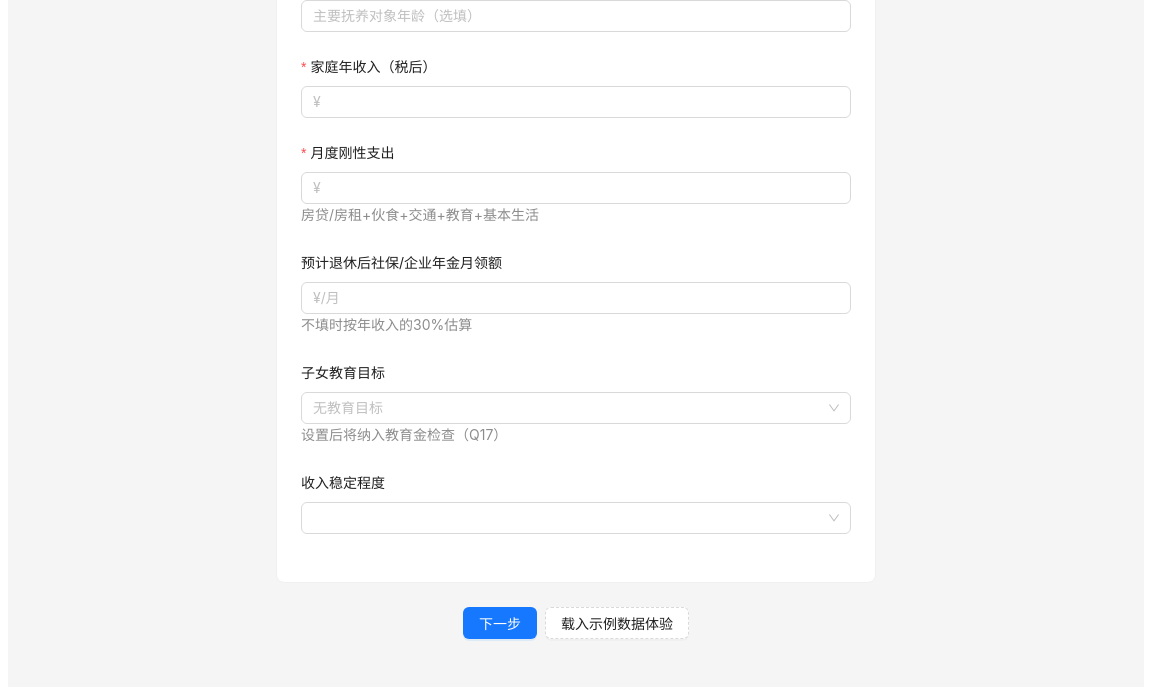
Test: UI 冒烟测试 (Issue #25) › 引导页 → 载入示例数据 → 总览出现净资产与关键指标
(page scrolled)
Expected: the text "载入示例数据体验" is shown, [561, 613, 673, 633]
// 一键载入示例数据 → 总览
Step 1. Click the button "载入示例数据体验" → [617, 623], box [545, 607, 689, 639]
(page scrolled)
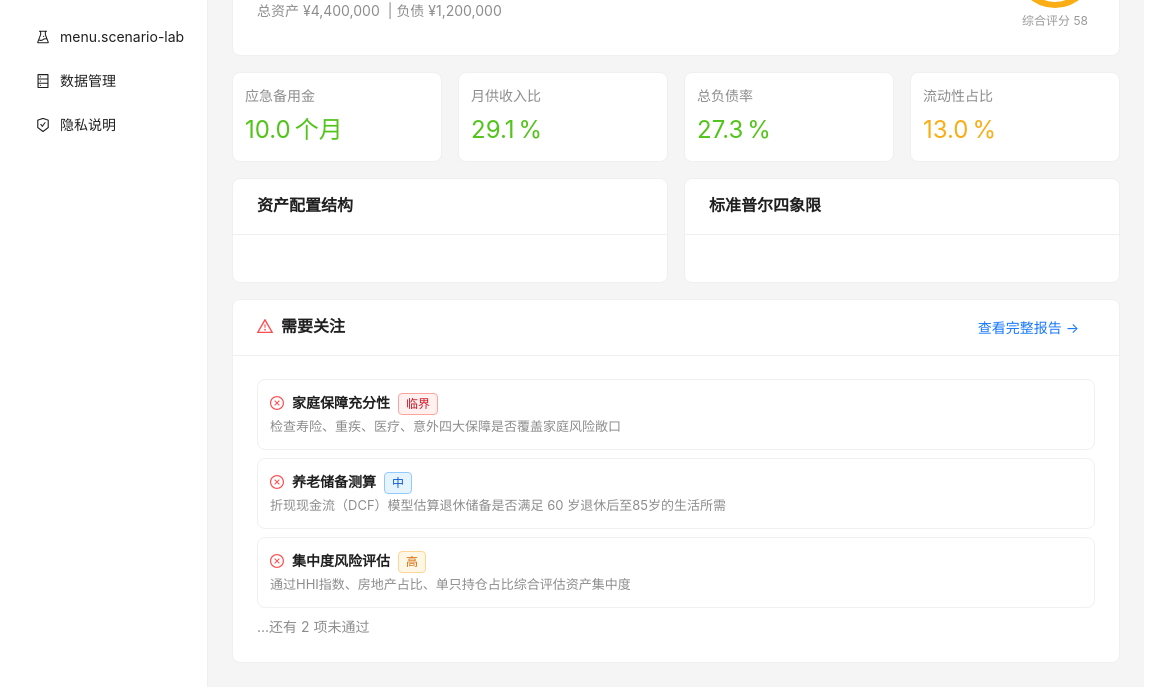
Now the text "应急备用金" is shown, box [245, 87, 315, 104]
Now the text "月供收入比" is shown, box [471, 87, 541, 104]
Now the text "需要关注" is shown, box [281, 314, 345, 340]
